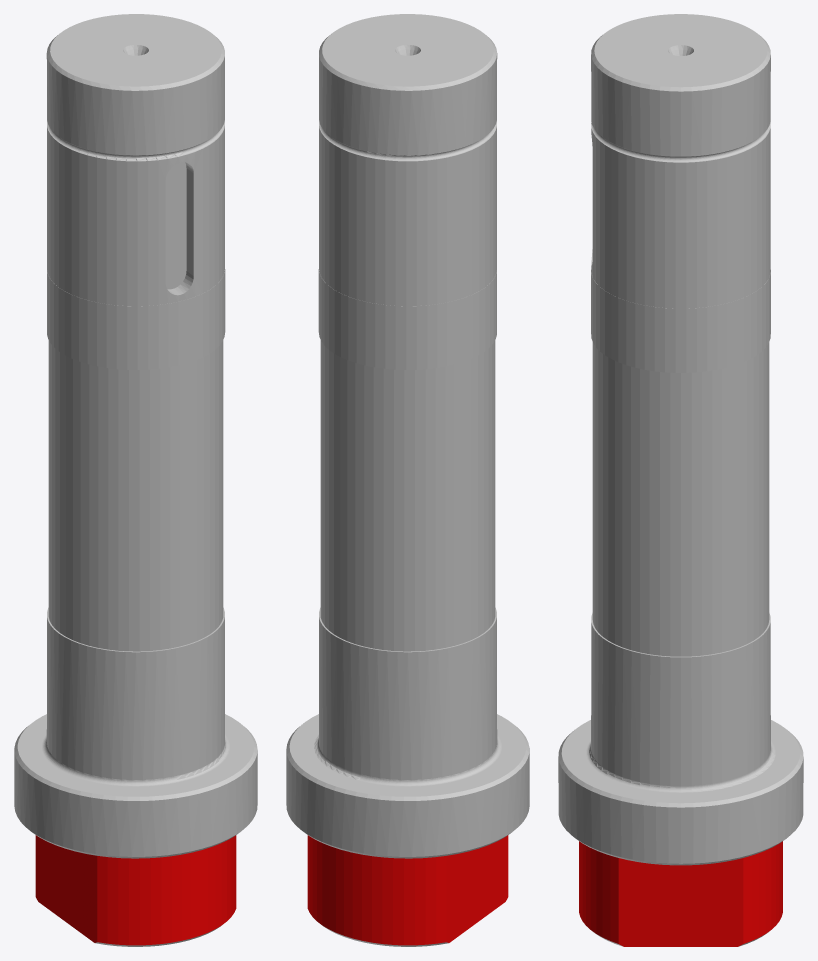
File: 1_stp_1_4_5_29_30.obj
The picture shows the model from 3 angles, left to right: view 1: azimuth 30°, elevation 25°; view 2: azimuth 150°, elevation 25°; view 3: azimuth 270°, elevation 25°; orthographic projection.
Parts seen in each view (by area): view 1: Object1; view 2: Object1; view 3: Object1.
Part boxes in pixels (x1,y1,x2,y2): Object1: [14, 14, 257, 946]; Object1: [286, 14, 529, 946]; Object1: [558, 14, 803, 946].
Size of the model in its own units: 75 by 291 by 74.98.
